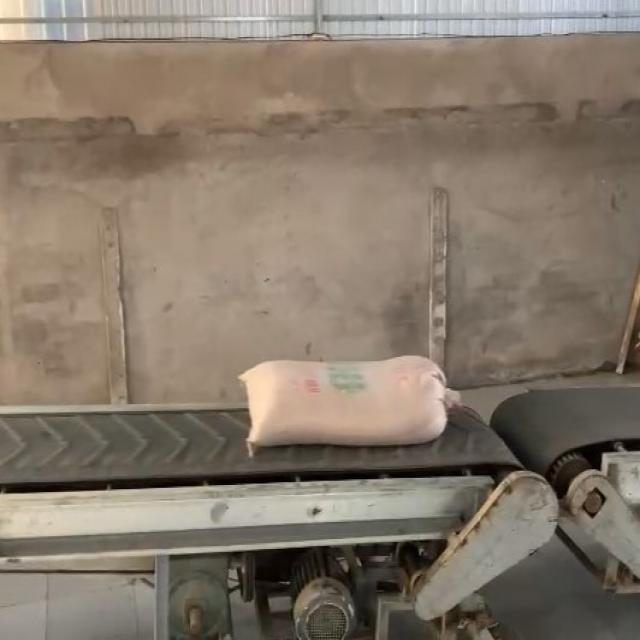gunny_bag: (241, 357, 450, 447)
